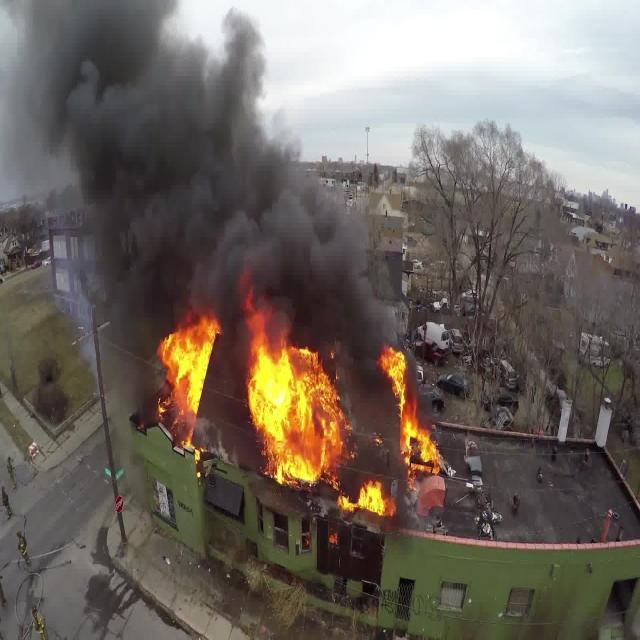Fire: (253, 339, 432, 527), (153, 311, 226, 409)
Smoke: (8, 1, 464, 368)
